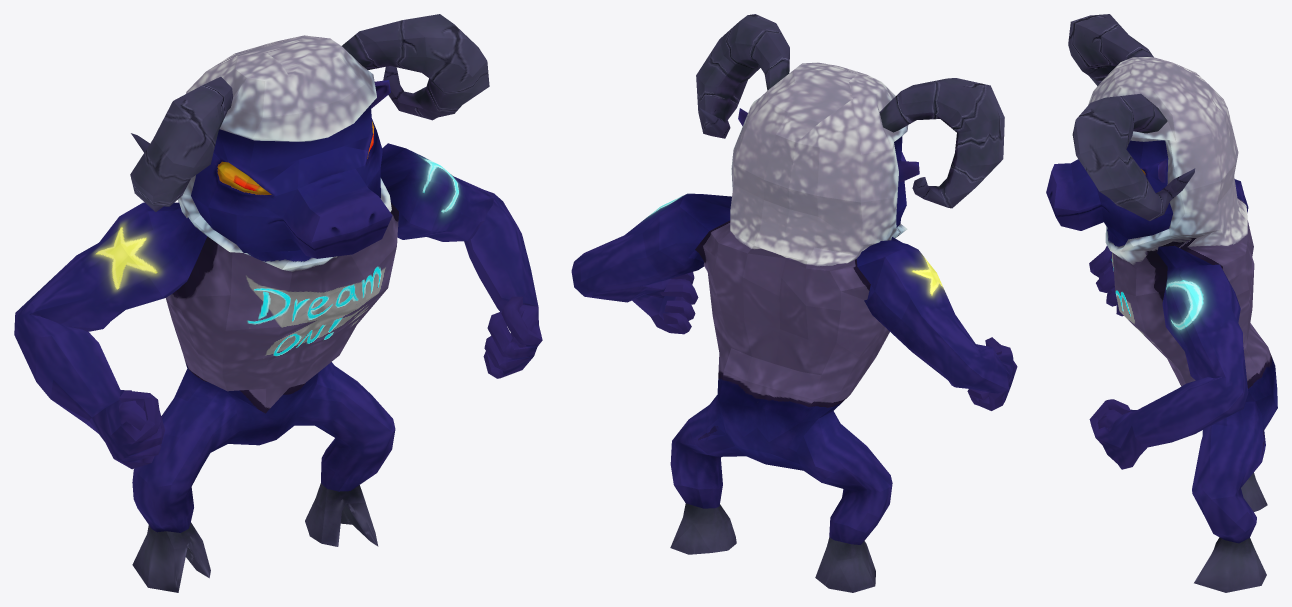
File: Charger_1.glb
3 renders of one model, left to right at view 1: azimuth 30°, elevation 25°; view 2: azimuth 150°, elevation 25°; view 3: azimuth 270°, elevation 25°, orthographic. The views are drawn at different scales.
Visible parts, largest first — view 1: Charger_1 Model; view 2: Charger_1 Model; view 3: Charger_1 Model.
Boxes of the visible parts, x1,y1,x2,y2 form: Charger_1 Model: (14, 14, 542, 592); Charger_1 Model: (571, 14, 1017, 592); Charger_1 Model: (1046, 14, 1277, 592).
Size of the model in its own units: 1.66 by 1.83 by 0.7942.
1 material, 1 textured.
